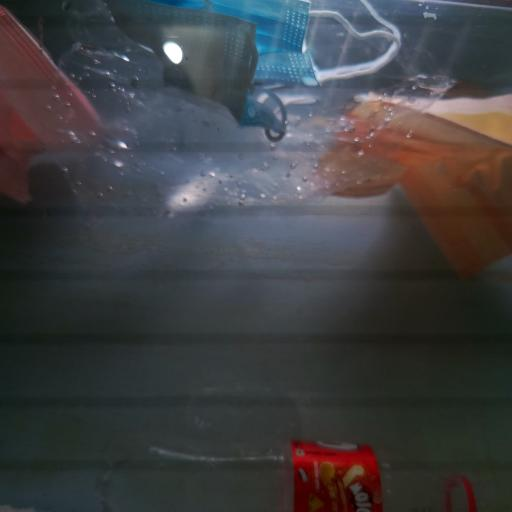mask: (122, 4, 406, 145), (325, 92, 512, 272), (5, 2, 117, 212)
plastic_bag: (4, 0, 452, 208)
plastic_bottle: (117, 432, 488, 512)
